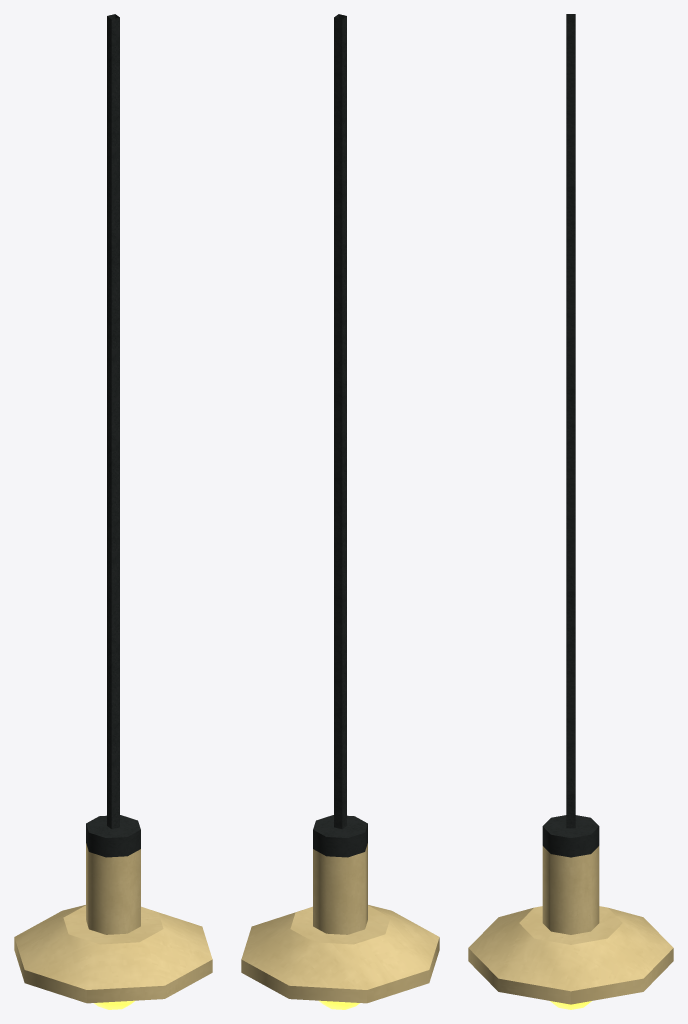
File: pendant_light_1.glb
The picture shows the model from 3 angles, left to right: view 1: azimuth 30°, elevation 25°; view 2: azimuth 150°, elevation 25°; view 3: azimuth 270°, elevation 25°; orthographic projection.
Visible parts, largest first — view 1: pendant_light_1; view 2: pendant_light_1; view 3: pendant_light_1.
Boxes of the visible parts, box(x1,y1,x2,y2) form: pendant_light_1: box(14, 14, 212, 1009); pendant_light_1: box(241, 14, 439, 1009); pendant_light_1: box(468, 14, 673, 1009).
Size of what is drawn, in the model's own units: 1.17 by 6.22 by 1.17.
Materials: 3 (2 with a texture image).
